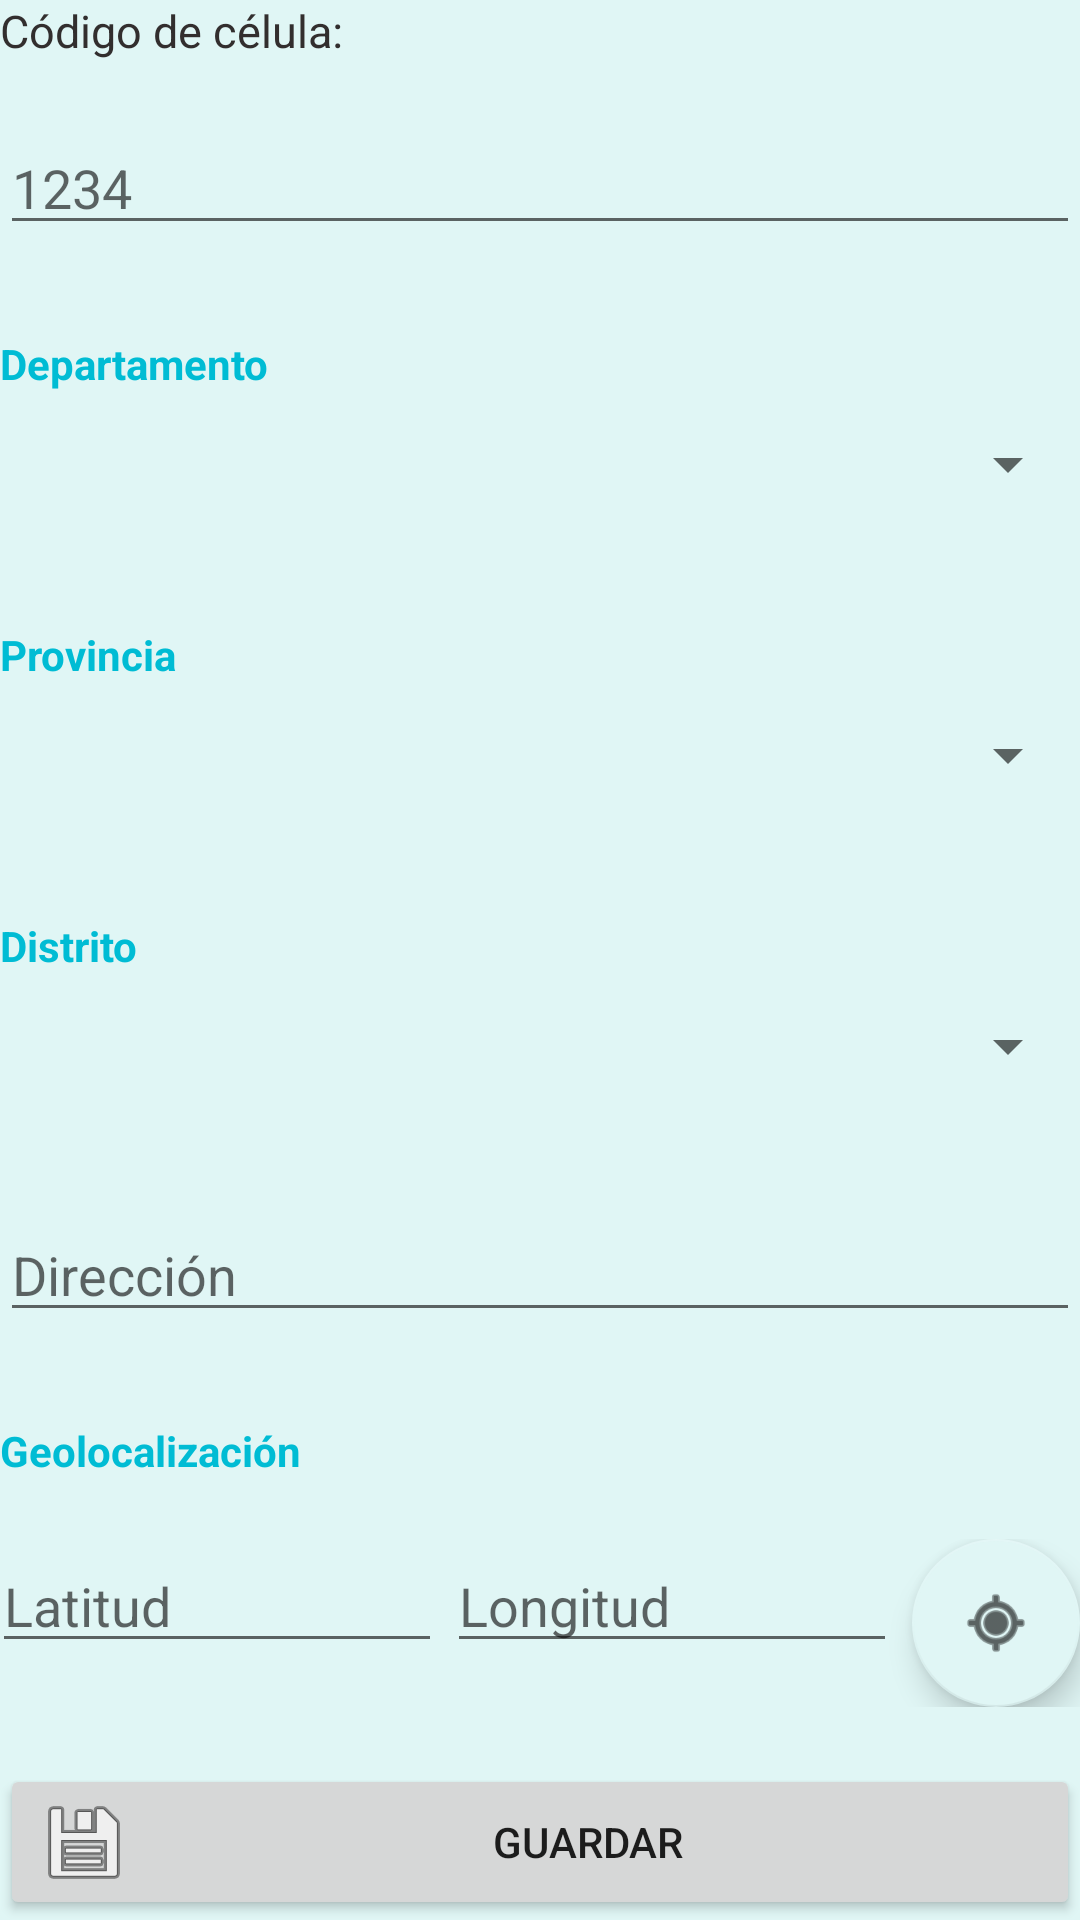

Named icons in this screenshot (1080px×1920px) and their bounding boxes, (x1, y1, x2, y2):
mylocation: (918, 1594, 1080, 1707)
